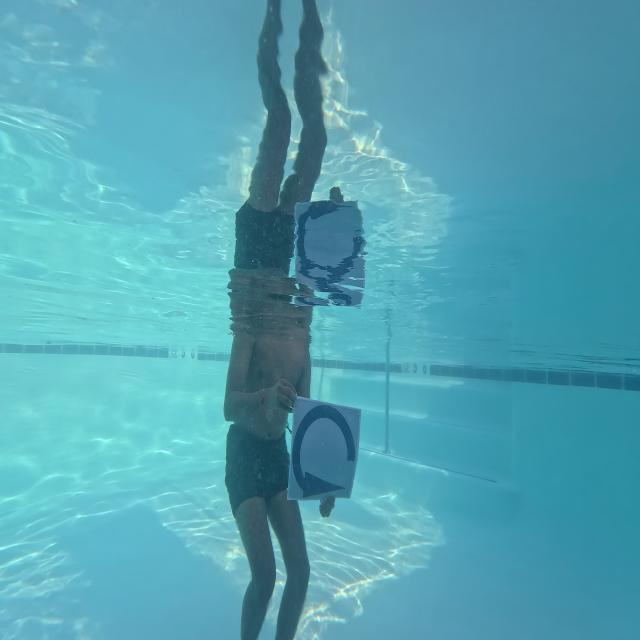blue_side: (285, 387, 363, 512)
